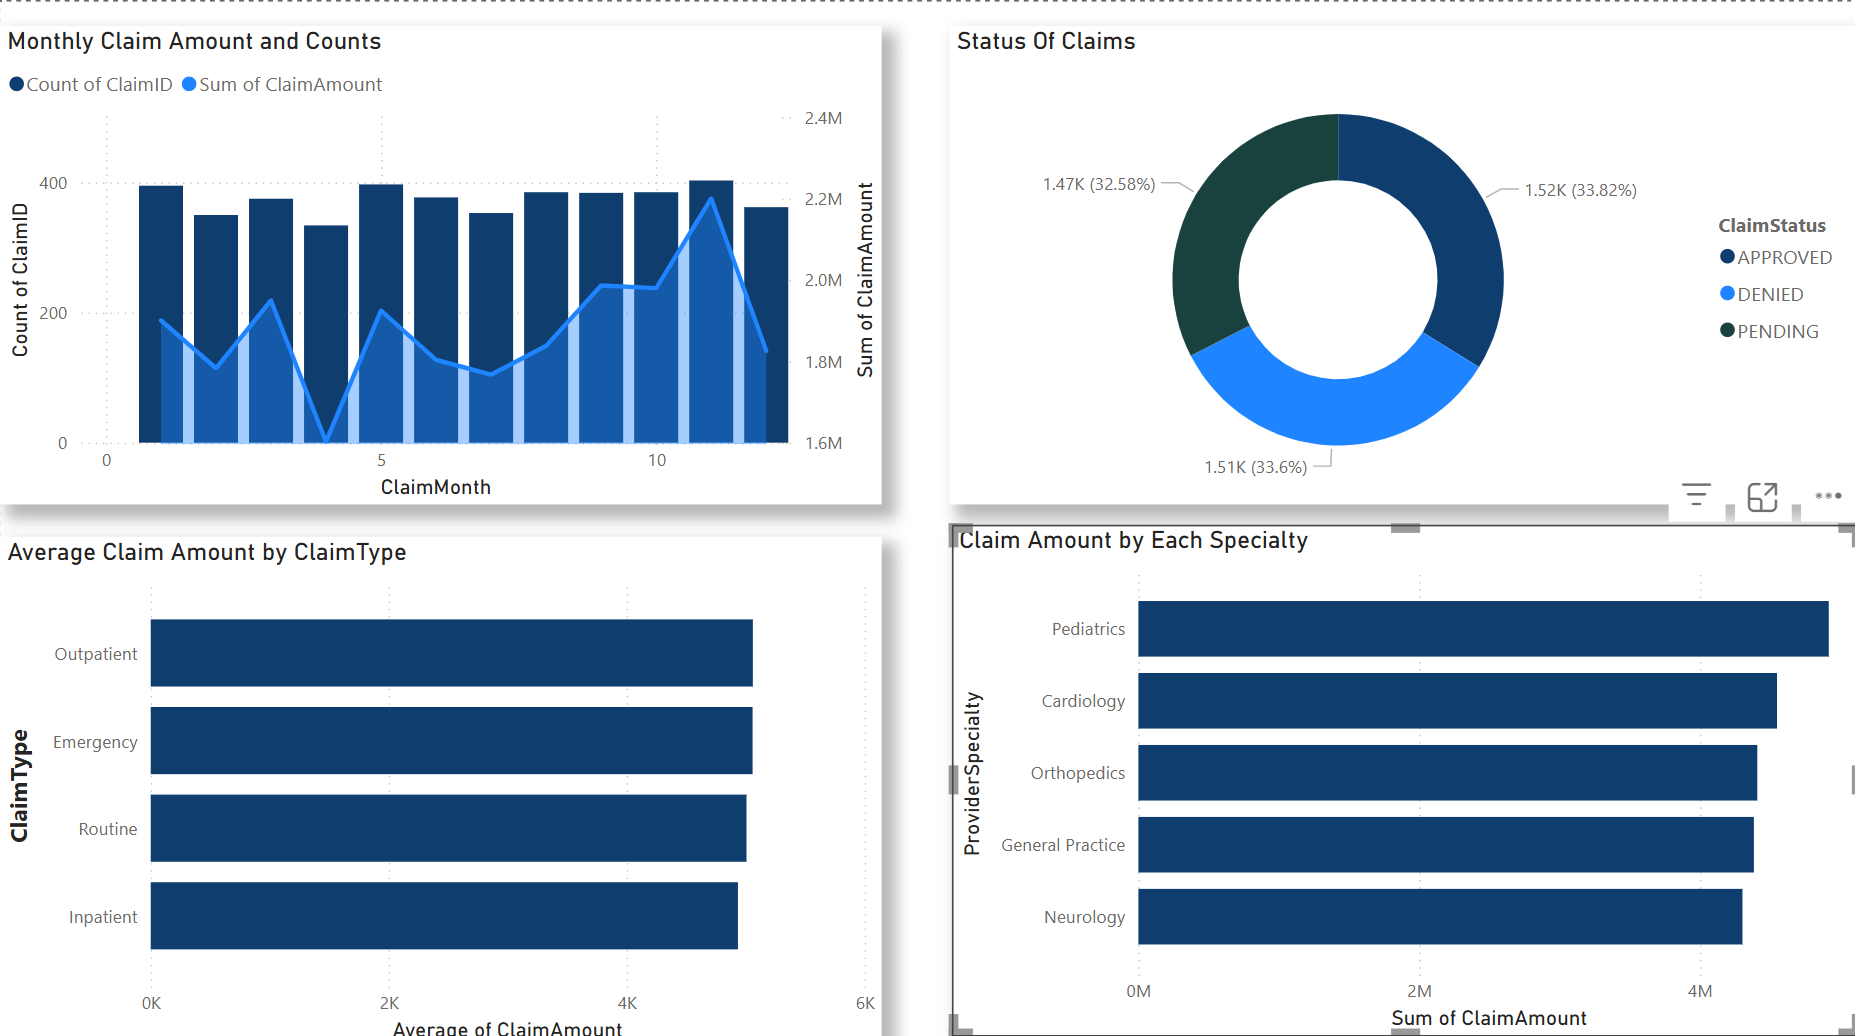

Layout of this report page (visuals, bound fields, positions):
{"tool":"powerbi","page":{"name":"Claim Amount Analysis","canvas":[1280,720],"ordinal":0},"visuals":[{"type":"lineClusteredColumnComboChart","title":"Monthly Claim Amount and Counts","fields":{"Category":["healthinsurance claims_cleaned.ClaimMonth"],"Y":["CountNonNull(healthinsurance claims_cleaned.ClaimID)"],"Y2":["Sum(healthinsurance claims_cleaned.ClaimAmount)"]},"box":[0,16.3,606.4,329.5],"z":0},{"type":"donutChart","title":"Status Of Claims","fields":{"Category":["healthinsurance claims_cleaned.ClaimStatus"],"Y":["CountNonNull(healthinsurance claims_cleaned.ClaimID)"]},"box":[654,16.3,625.2,329.5],"z":1000},{"type":"clusteredBarChart","title":"Average Claim Amount by ClaimType","fields":{"Category":["healthinsurance claims_cleaned.ClaimType"],"Y":["Avg(healthinsurance claims_cleaned.ClaimAmount)"]},"box":[0,359.6,606.4,352.1],"z":2000},{"type":"clusteredBarChart","title":"Claim Amount by Each Specialty","fields":{"Category":["healthinsurance claims_cleaned.ProviderSpecialty"],"Y":["Sum(healthinsurance claims_cleaned.ClaimAmount)"]},"box":[655.3,359.6,624,352.1],"z":3000}]}

Visuals, with their boxes in screenshot pixels (x1, y1, x2, y2), scaled from the page's 1280x720 canvas onto the 1855x1036 screenshot:
"Monthly Claim Amount and Counts" lineClusteredColumnComboChart: [left=0, top=23, right=879, bottom=498]
"Status Of Claims" donutChart: [left=948, top=23, right=1854, bottom=498]
"Average Claim Amount by ClaimType" clusteredBarChart: [left=0, top=517, right=879, bottom=1024]
"Claim Amount by Each Specialty" clusteredBarChart: [left=950, top=517, right=1854, bottom=1024]
